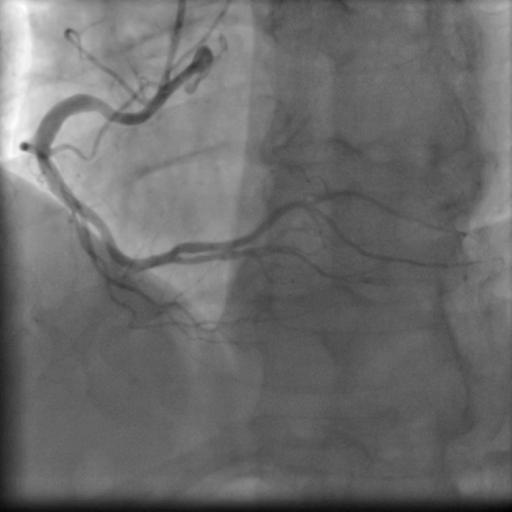Stenosis: (33, 157, 66, 185)
